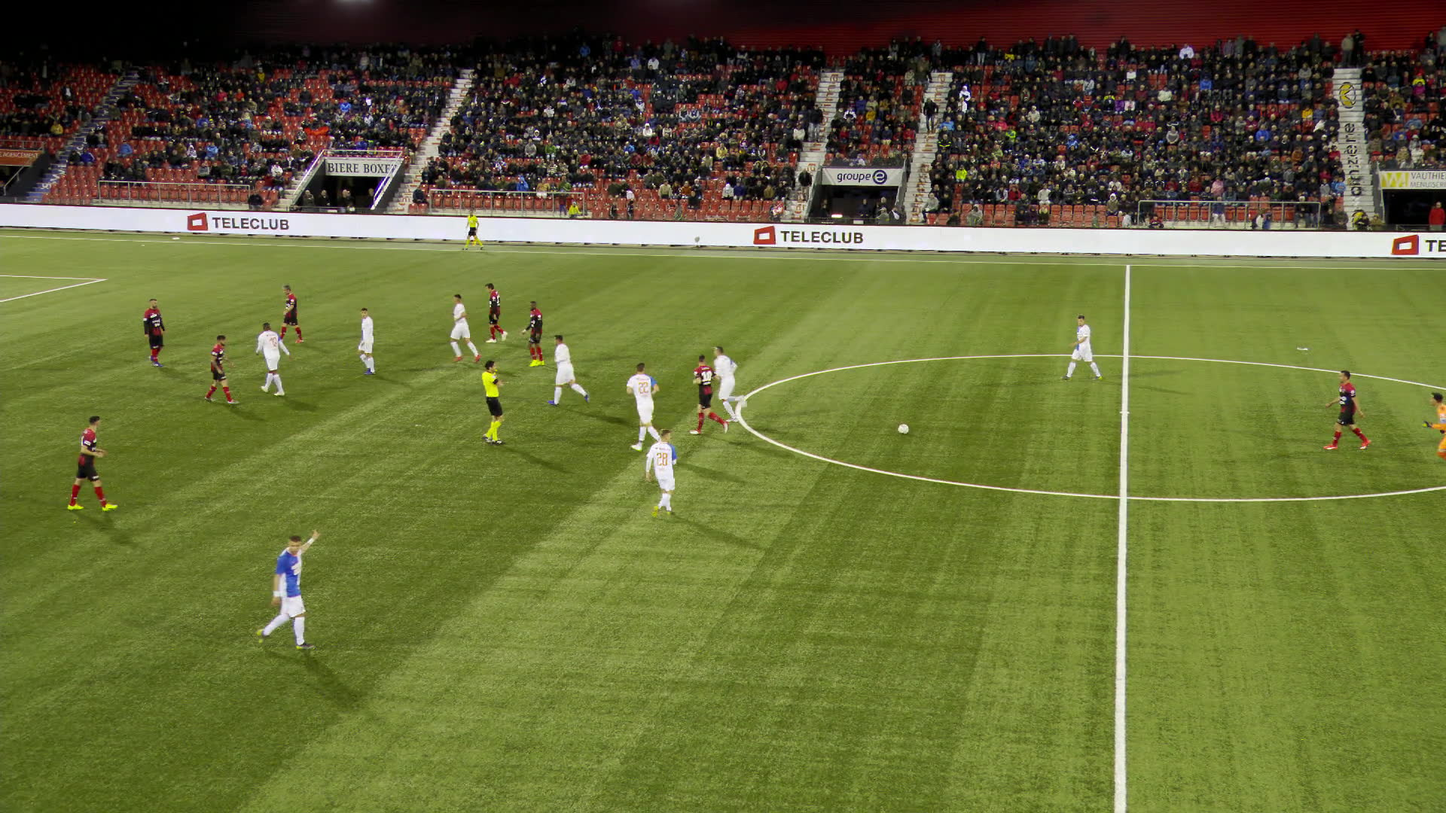ball: (897, 424, 908, 434)
player: (261, 528, 320, 650), (68, 413, 110, 513), (711, 343, 759, 421), (1323, 369, 1365, 449), (644, 428, 677, 518), (628, 365, 662, 444), (1063, 312, 1099, 381), (552, 336, 585, 409), (692, 355, 721, 437), (258, 324, 288, 397), (351, 308, 383, 376), (206, 332, 234, 406), (449, 296, 480, 362), (521, 301, 551, 367), (141, 296, 167, 367), (482, 282, 508, 343), (279, 284, 304, 344), (1427, 409, 1445, 457)
referee: (479, 360, 514, 446), (463, 208, 482, 251)
